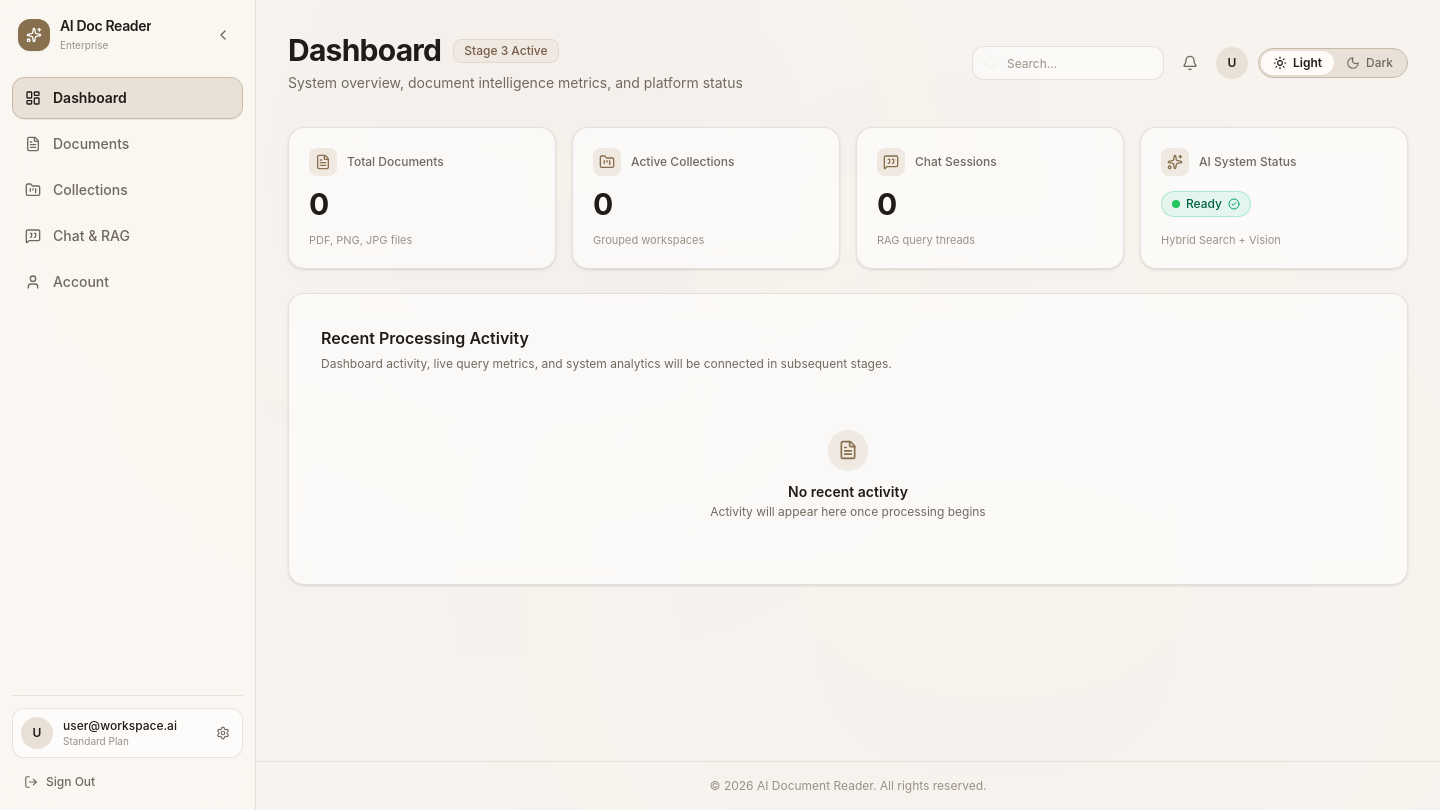
Test: AppShell and Navigation Routing › toggles desktop sidebar collapse and expand
Click the button named "Collapse sidebar" at (223, 34), box [209,20,237,48]
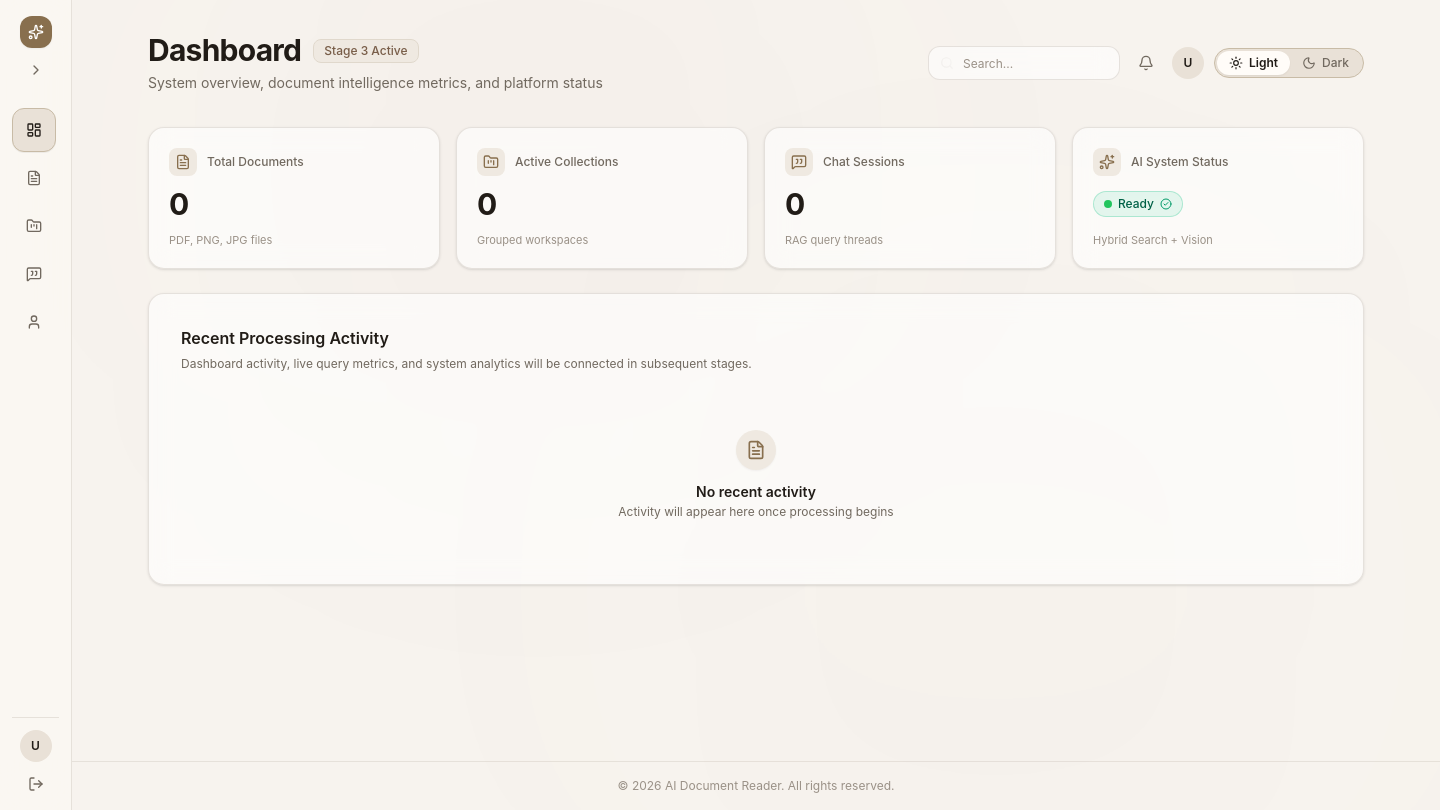
Now the button named "Expand sidebar" is shown
Click the button named "Expand sidebar" at (36, 70), box [22,56,50,84]
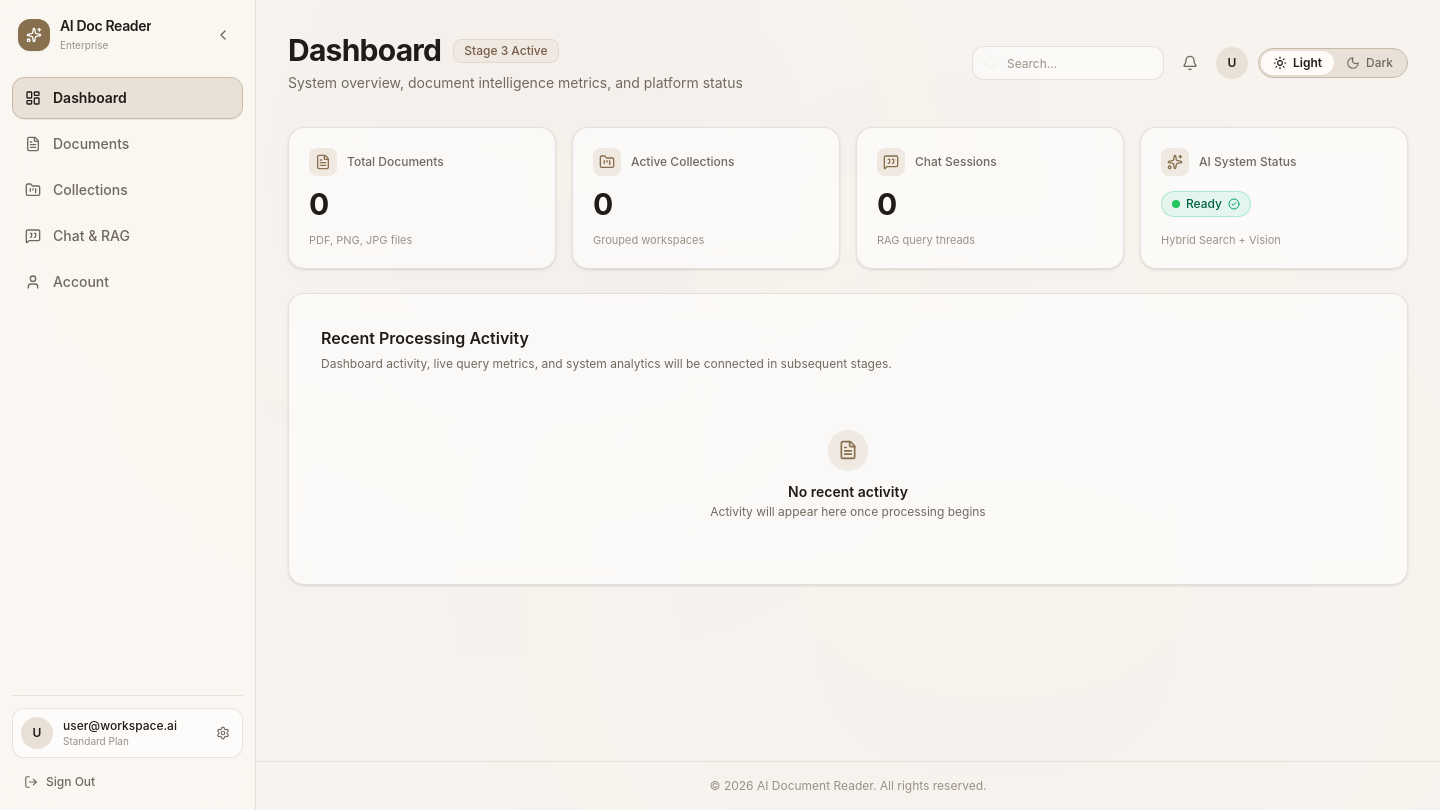
Now the button named "Collapse sidebar" is shown, box [209,20,237,48]
